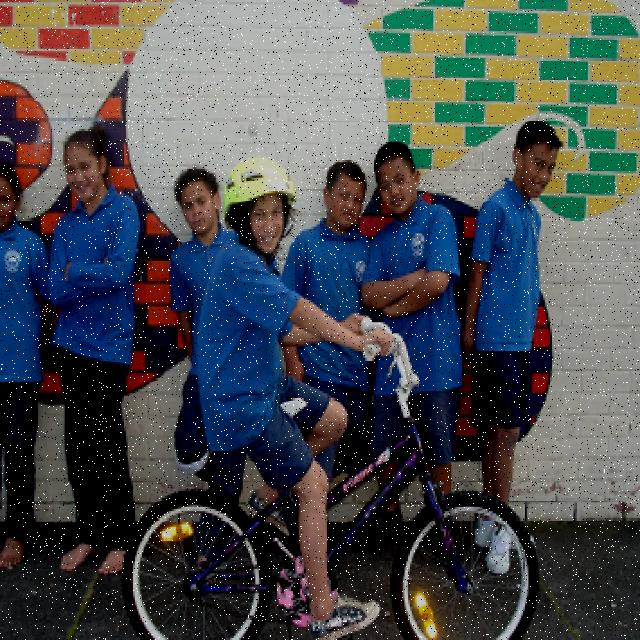not_ride_motorcycle: (39, 123, 149, 569), (473, 111, 567, 580), (363, 138, 456, 524), (166, 161, 228, 499), (0, 144, 45, 569)
with-helmet: (212, 155, 306, 269)
